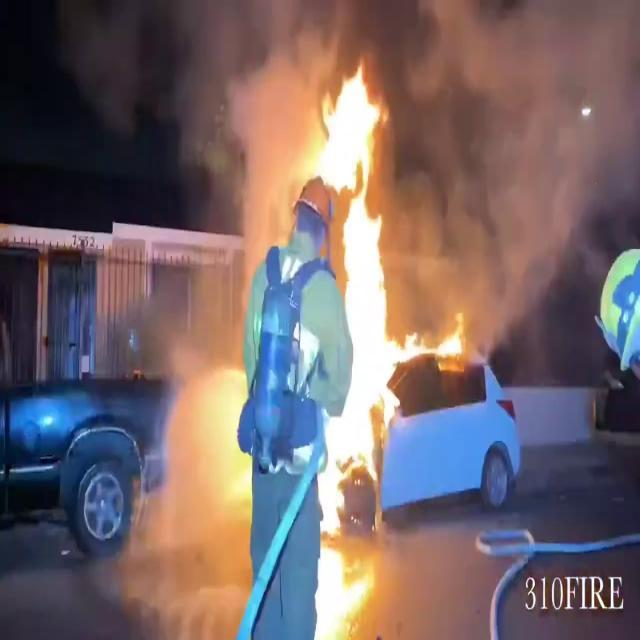Fire: (289, 54, 466, 601)
Smoke: (382, 0, 639, 316)
